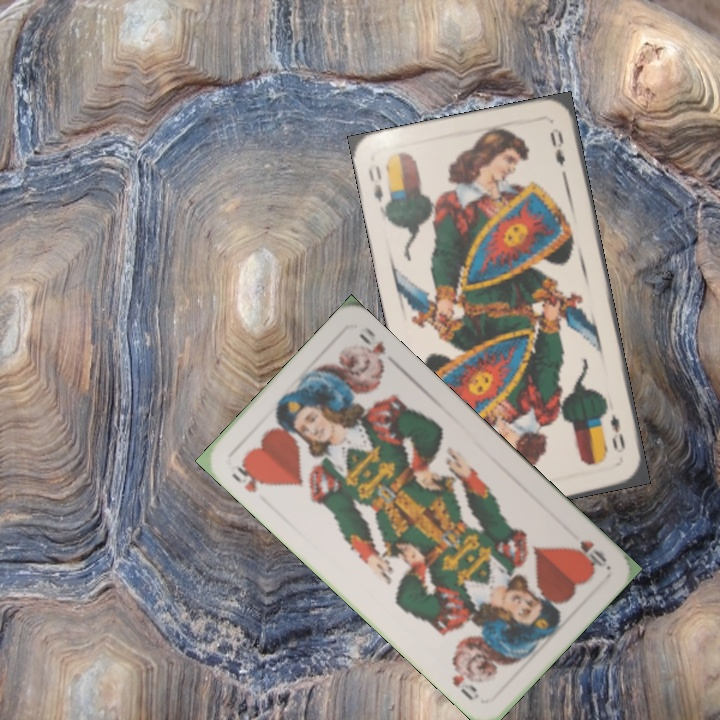EO: (606, 410, 628, 456), (364, 161, 386, 205)
HO: (227, 457, 271, 496), (569, 536, 610, 570)
